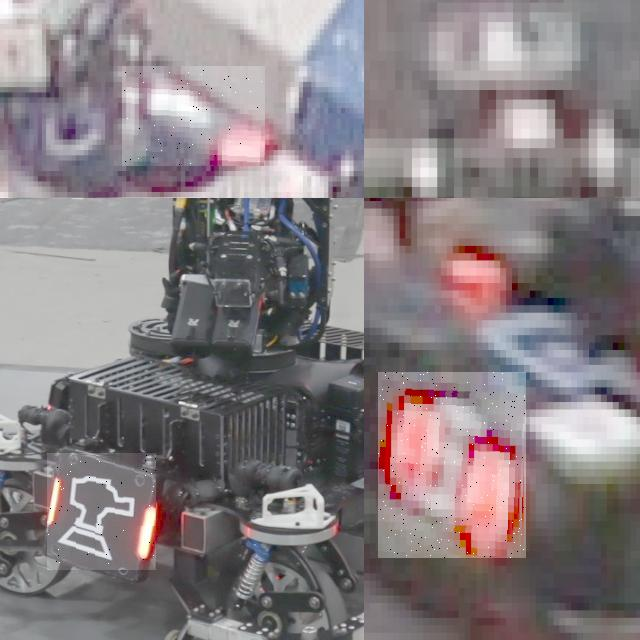R4: (122, 66, 265, 166)
R5: (378, 372, 526, 558)
Rs: (47, 453, 156, 570)
